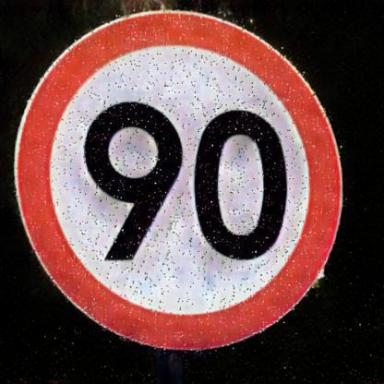Speed_limit_90: (21, 12, 338, 349)
